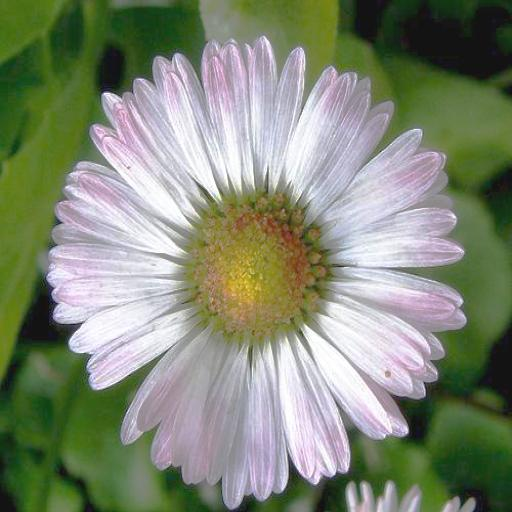daisy: (55, 42, 462, 490)
